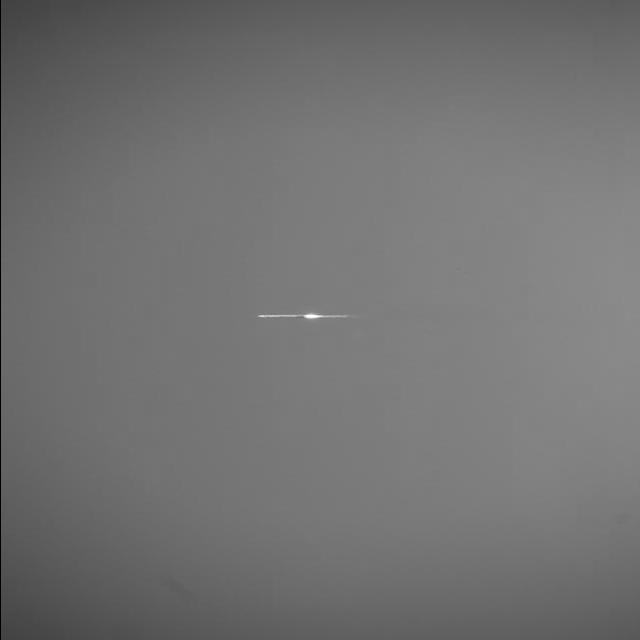missile: (255, 312, 307, 320)
